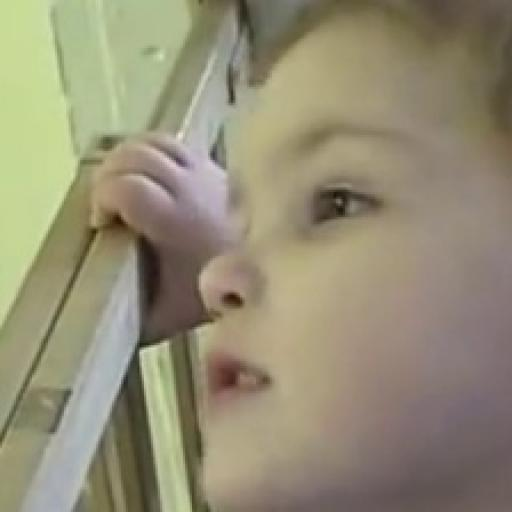Autism: (164, 48, 512, 512)
